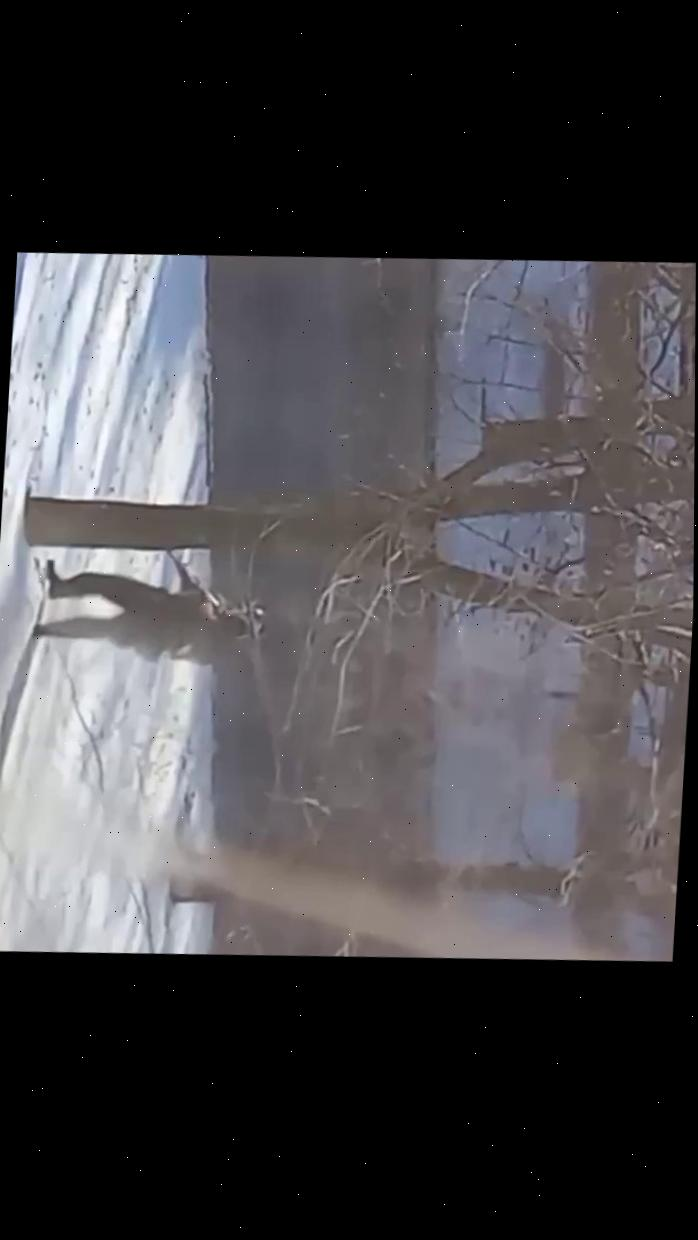person: (32, 538, 268, 676)
